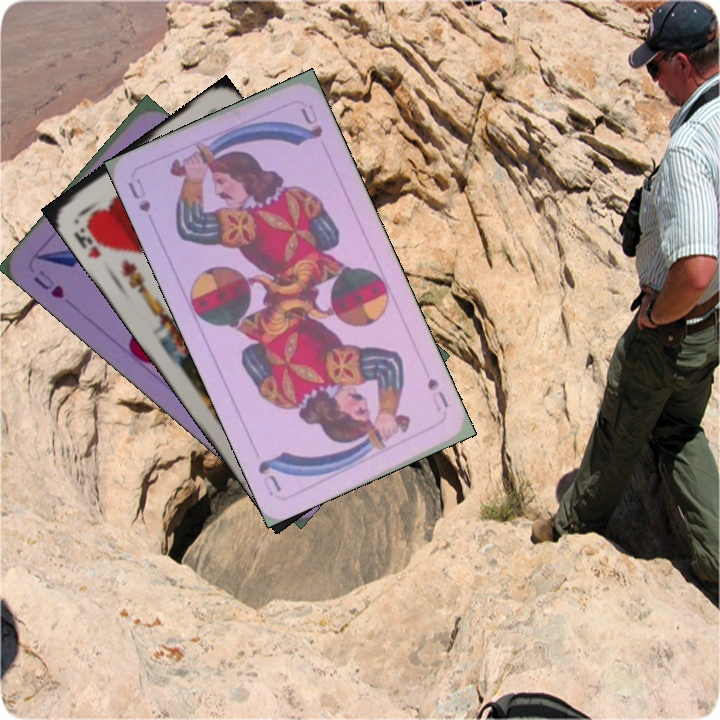HK: (69, 216, 114, 261)
HU: (28, 265, 67, 301)
SU: (123, 174, 153, 215), (423, 374, 452, 411)
